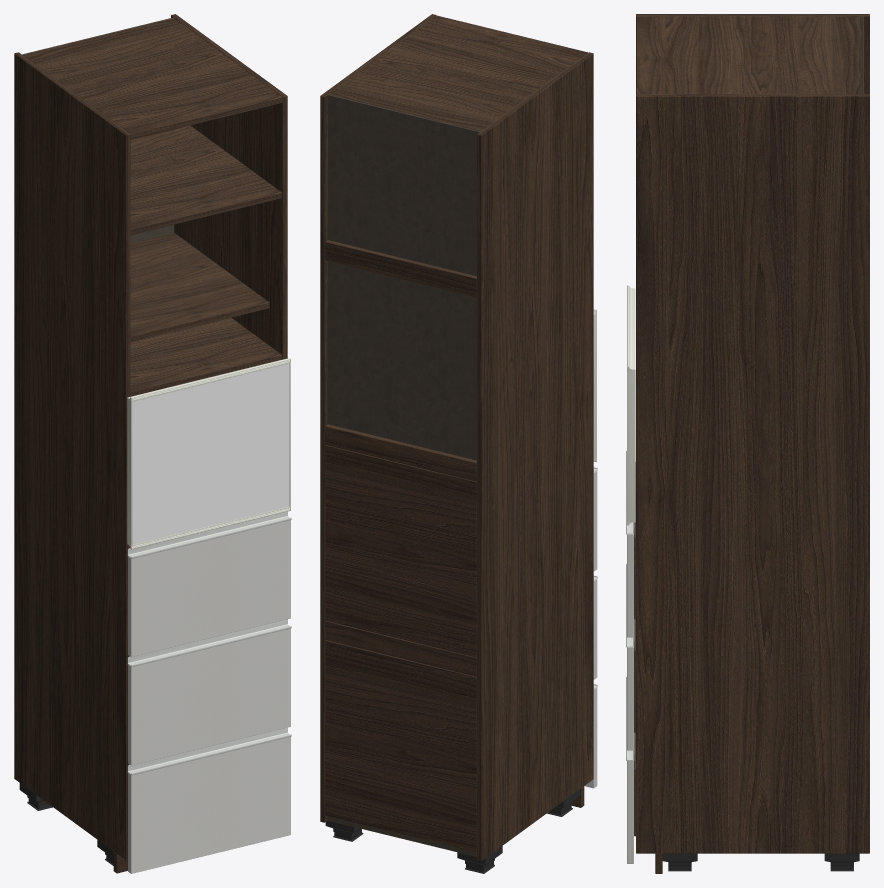
The picture shows the model from 3 angles, left to right: view 1: azimuth 30°, elevation 25°; view 2: azimuth 150°, elevation 25°; view 3: azimuth 270°, elevation 25°; orthographic projection. The views are drawn at different scales.
Parts seen in each view (by area): view 1: HK1001209, LIFTUP_01; view 2: HK1001209, LIFTUP_01; view 3: HK1001209, LIFTUP_01.
Boxes of the visible parts, bbox=[...] form: HK1001209: bbox=[14, 14, 291, 873]; LIFTUP_01: bbox=[127, 358, 290, 549]; HK1001209: bbox=[320, 14, 597, 873]; LIFTUP_01: bbox=[593, 309, 596, 462]; HK1001209: bbox=[626, 14, 869, 873]; LIFTUP_01: bbox=[627, 285, 635, 525].
Bounding box in the file's own units: 0.5 × 2.2 × 0.6256.
Materials: 10 (6 with a texture image).
